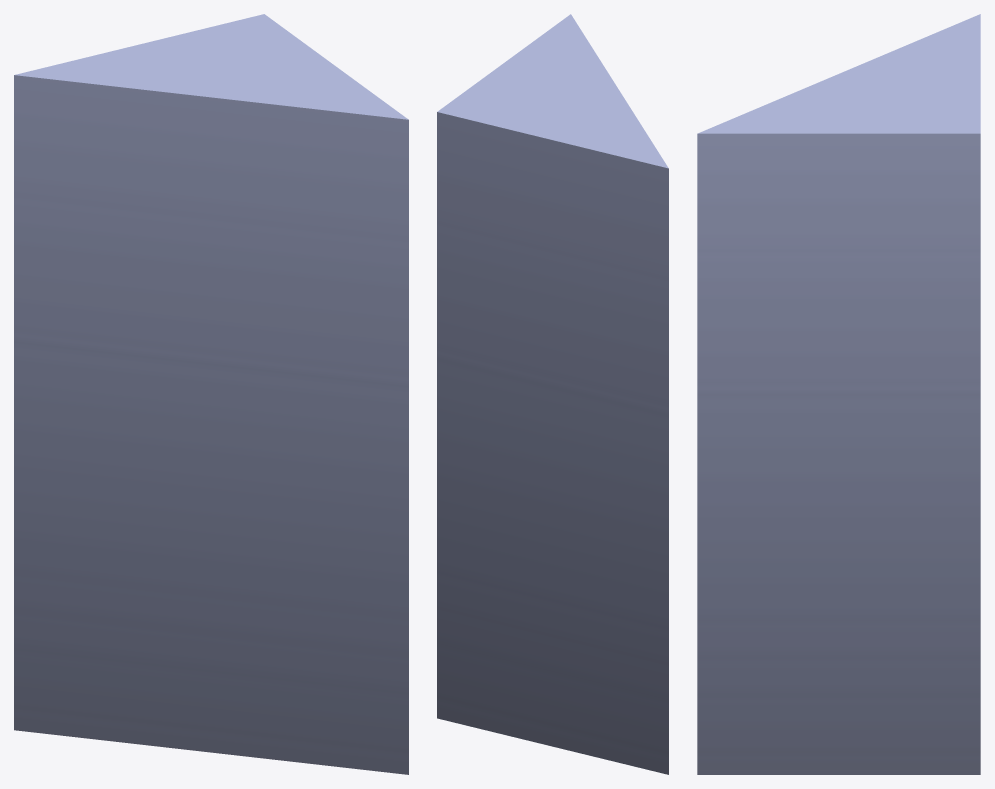
Rendered from column-triangle-low.fbx.
The picture shows the model from 3 angles, left to right: view 1: azimuth 30°, elevation 25°; view 2: azimuth 150°, elevation 25°; view 3: azimuth 270°, elevation 25°; orthographic projection. The views are drawn at different scales.
Parts seen in each view (by area): view 1: column-triangle-low; view 2: column-triangle-low; view 3: column-triangle-low.
Boxes of the visible parts, x1=… form: column-triangle-low: x1=14, y1=14, x2=408, y2=774; column-triangle-low: x1=437, y1=14, x2=668, y2=774; column-triangle-low: x1=697, y1=14, x2=980, y2=774.
Bounding box in the file's own units: 20 × 50 × 20.
